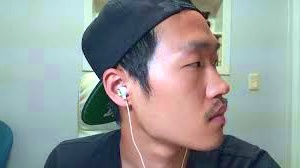earphone: (102, 67, 131, 106)
